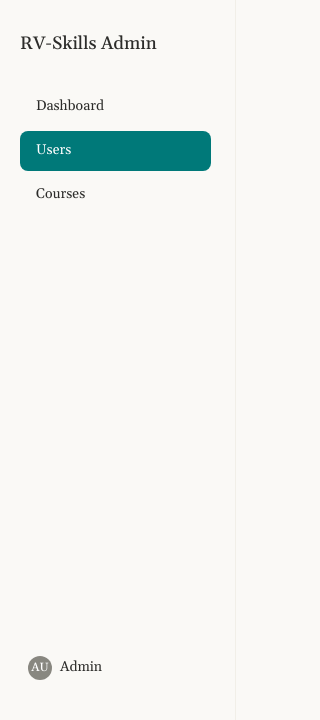
Scenario: AdminSidebarNav › toggles the user menu open on click
Step 1. Click the text "Admin" → {"x": 81, "y": 668}, box [60,658,102,678]
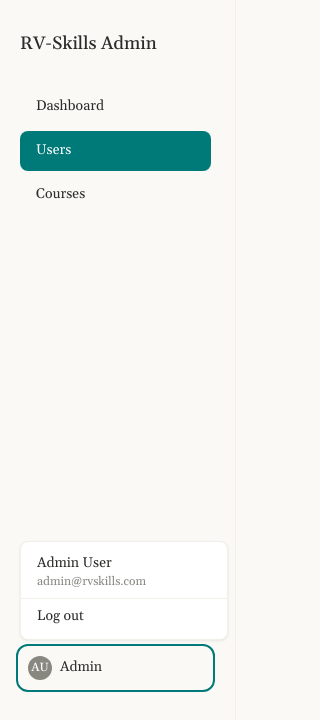
Result: the text "admin@rvskills.com" is shown at [37,574,146,589]
